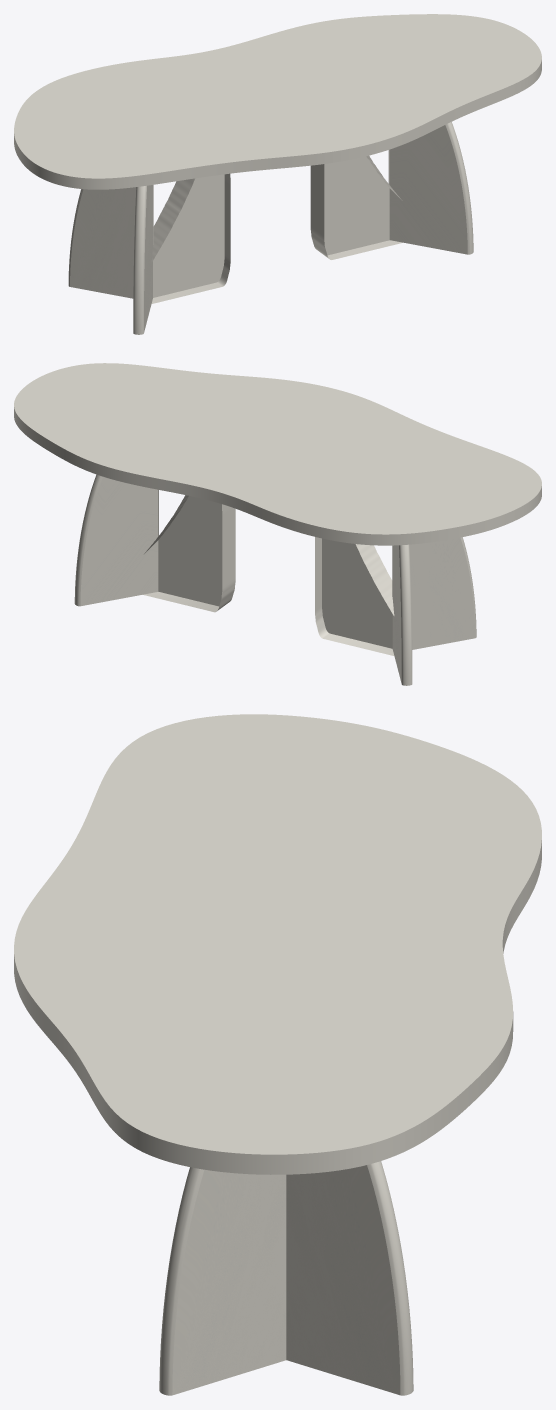
File: pale_toplast_standard_plane.glb
3 views of the same model, one above another, from view 1: azimuth 30°, elevation 25°; view 2: azimuth 150°, elevation 25°; view 3: azimuth 270°, elevation 25° (orthographic). The views are drawn at different scales.
Parts seen in each view (by area): view 1: standard_toplast, plane_singleright2, plane_single1, plane_single2, plane_singleleft1, plane_singleright1; view 2: standard_toplast, plane_singleleft2, plane_single2, plane_single1, plane_singleright1, plane_singleleft1; view 3: standard_toplast, plane_singleleft2, plane_singleright2.
Part boxes in pixels (x1=…): standard_toplast: x1=14, y1=14, x2=541, y2=189; plane_singleright2: x1=388, y1=122, x2=473, y2=254; plane_single1: x1=151, y1=173, x2=230, y2=303; plane_single2: x1=310, y1=155, x2=402, y2=259; plane_singleleft1: x1=68, y1=185, x2=153, y2=298; plane_singleright1: x1=133, y1=185, x2=153, y2=334; standard_toplast: x1=14, y1=363, x2=541, y2=545; plane_singleleft2: x1=74, y1=474, x2=158, y2=606; plane_single2: x1=143, y1=495, x2=235, y2=612; plane_single1: x1=315, y1=537, x2=394, y2=655; plane_singleright1: x1=392, y1=537, x2=476, y2=649; plane_singleleft1: x1=392, y1=544, x2=412, y2=685; standard_toplast: x1=14, y1=714, x2=541, y2=1174; plane_singleleft2: x1=286, y1=1161, x2=413, y2=1395; plane_singleright2: x1=159, y1=1167, x2=286, y2=1395.
Size of the model in its own units: 7.5 by 2.49 by 3.8.
1 material, 1 textured.
